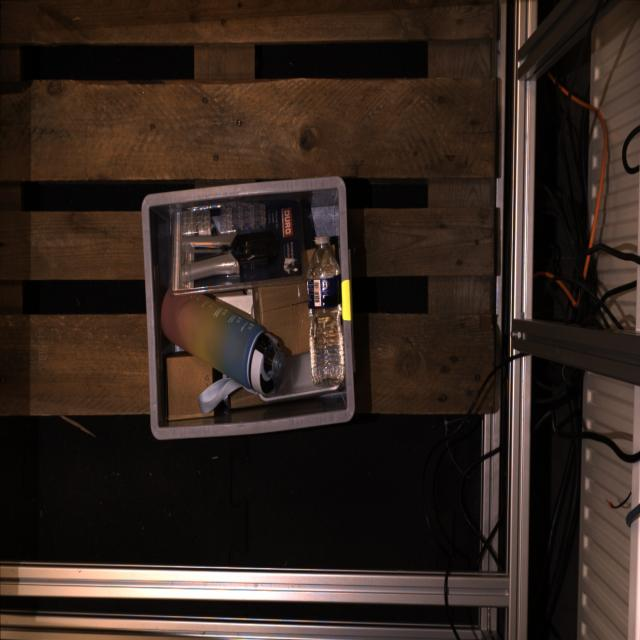Bottle: (161, 292, 284, 397), (305, 235, 346, 386)
CardboardBox: (251, 249, 314, 356), (164, 356, 212, 421), (217, 289, 254, 317), (228, 388, 263, 409), (329, 244, 336, 257)
ItemPackaging: (171, 200, 304, 294)
PlasticContainer: (259, 351, 339, 403)
